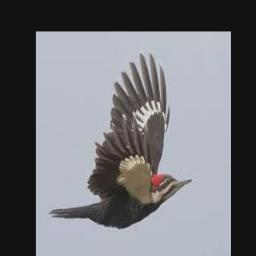Woodpecker: (49, 53, 193, 227)
